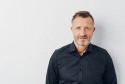male: (70, 14, 96, 47)
